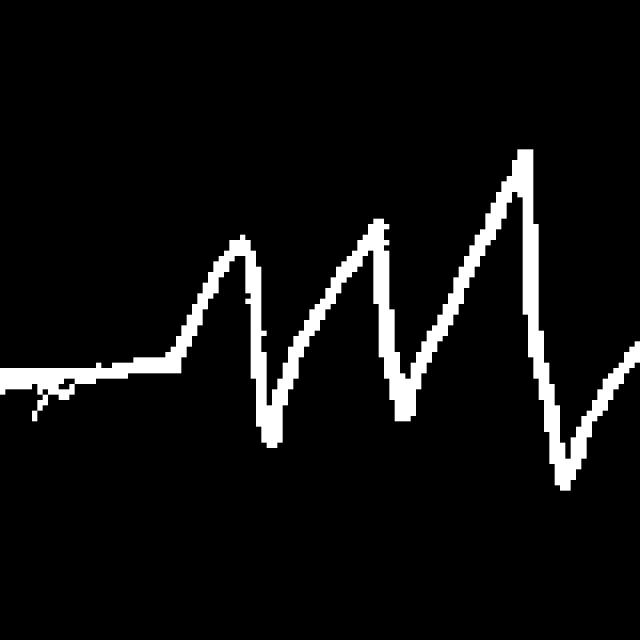resistor: (161, 135, 602, 506)
